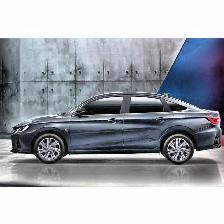NON-EV: (12, 93, 224, 168)
